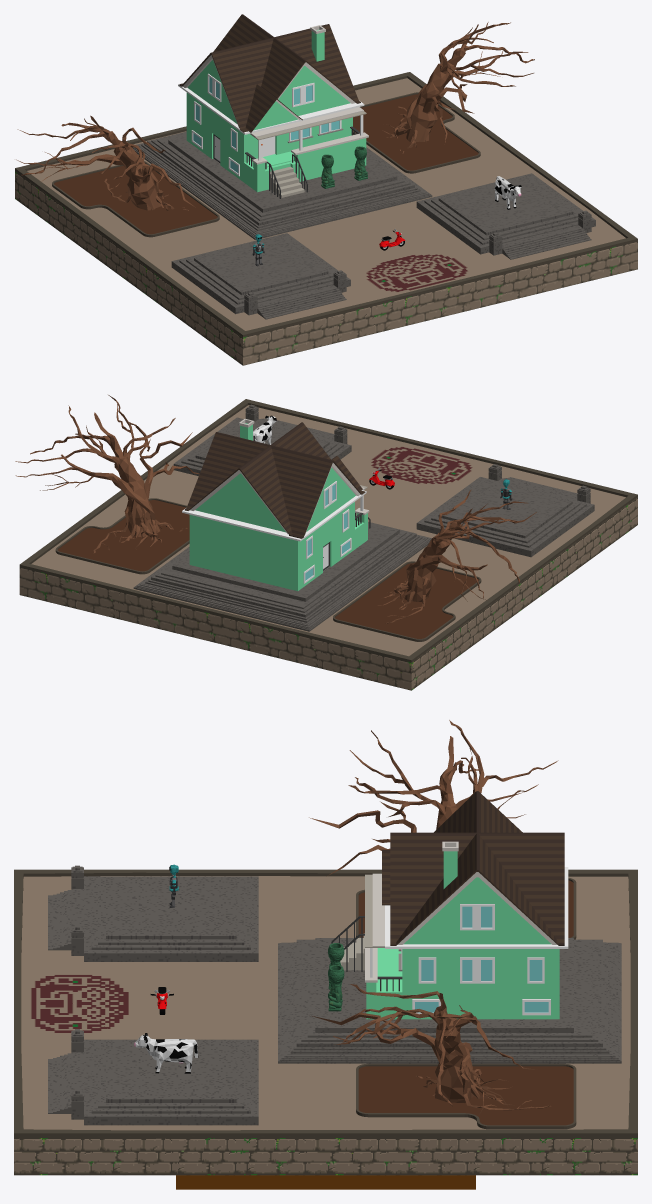
3 renders of one model, top to bottom at view 1: azimuth 30°, elevation 25°; view 2: azimuth 150°, elevation 25°; view 3: azimuth 270°, elevation 25°, orthographic. The views are drawn at different scales.
Visible parts, largest first — view 1: Cube.011, Cube.352, ANIMAL_VACA; view 2: Cube.011, Cube.352; view 3: Cube.011, Cube.352, UNDERGROUND_ART_PIECE_VAN_GOGH, ANIMAL_VACA.
Part boxes in pixels (left/top/right/bottom): Cube.011: left=15, top=22, right=637, bottom=365; Cube.352: left=178, top=14, right=368, bottom=198; ANIMAL_VACA: left=494, top=176, right=521, bottom=209; Cube.011: left=15, top=395, right=637, bottom=690; Cube.352: left=182, top=418, right=370, bottom=591; Cube.011: left=14, top=720, right=637, bottom=1175; Cube.352: left=331, top=791, right=568, bottom=1019; UNDERGROUND_ART_PIECE_VAN_GOGH: left=176, top=1175, right=475, bottom=1189; ANIMAL_VACA: left=134, top=1033, right=198, bottom=1073.
Bounding box in the file's own units: 5099 × 1785 × 4000.
Materials: 35 (6 with a texture image).
